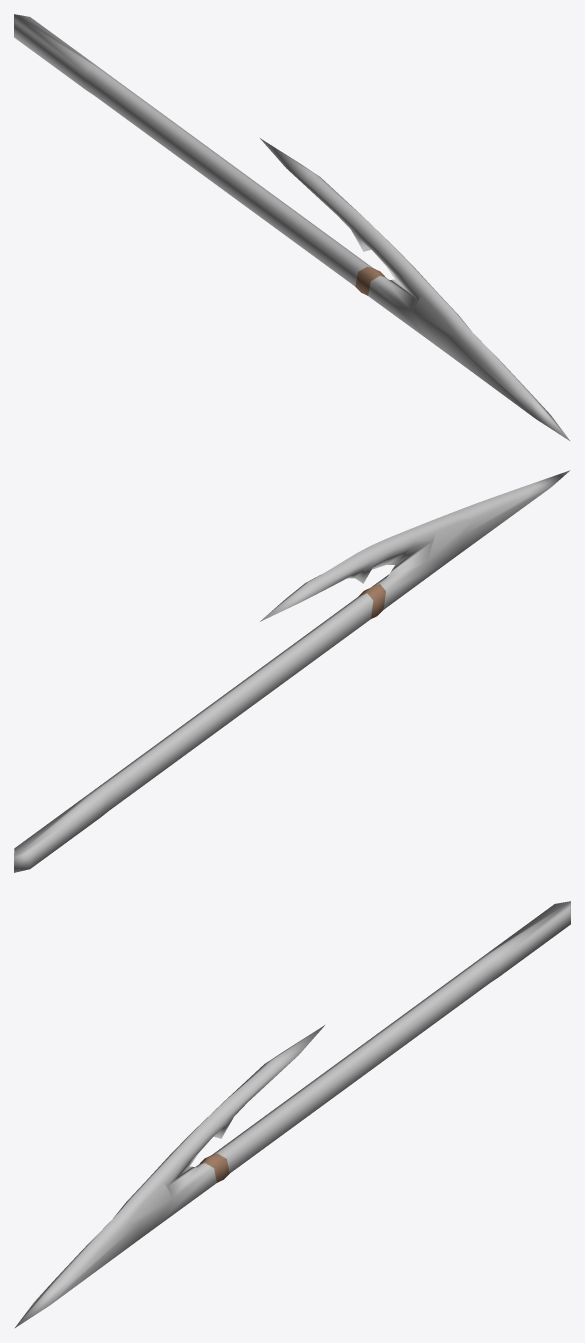
File: Hook Harpoon Shot (FBX).fbx
3 views of the same model, one above another, from view 1: azimuth 30°, elevation 25°; view 2: azimuth 150°, elevation 25°; view 3: azimuth 330°, elevation 25° (orthographic).
Parts seen in each view (by area): view 1: Hook Spear Shot; view 2: Hook Spear Shot; view 3: Hook Spear Shot.
Part boxes in pixels (box(x1,y1,x2,y2)): Hook Spear Shot: box(14, 14, 570, 441); Hook Spear Shot: box(14, 470, 570, 872); Hook Spear Shot: box(14, 901, 570, 1328).
Size of the model in its own units: 1.9 by 8.97 by 112.
